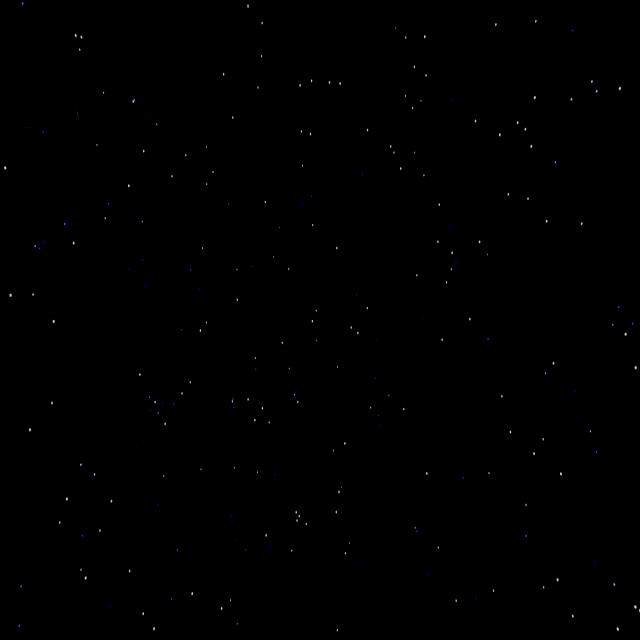satellite: (18, 91, 119, 184)
